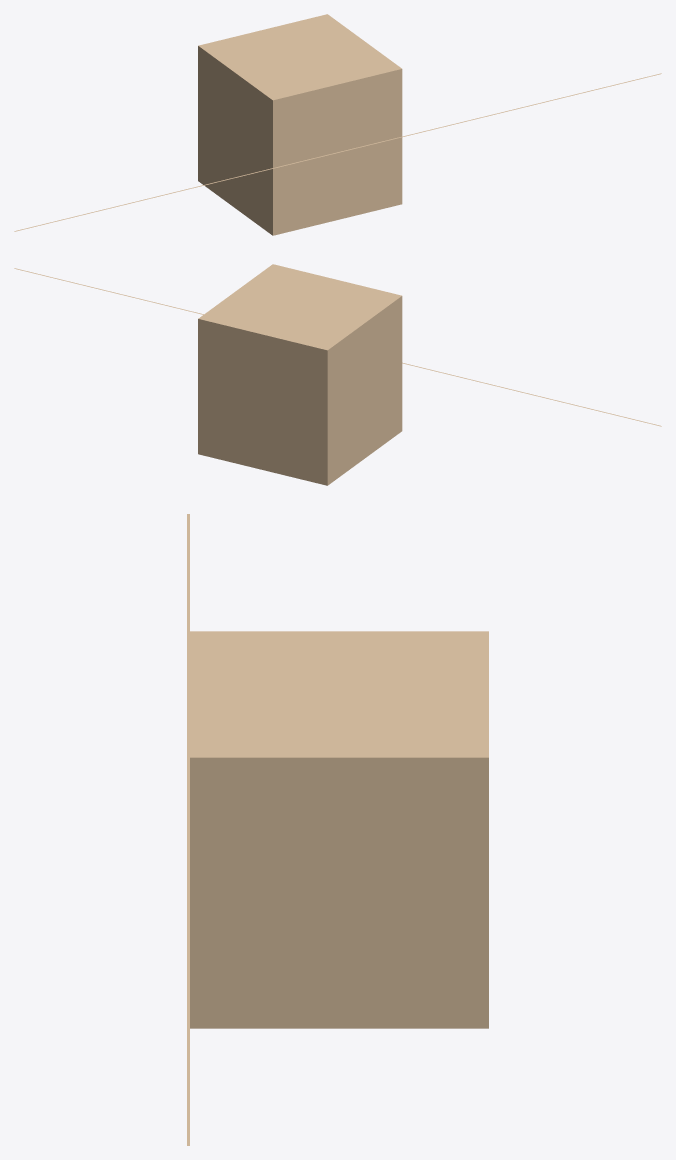
Rendered from generated_world.glb.
3 views of the same model, one above another, from view 1: azimuth 30°, elevation 25°; view 2: azimuth 150°, elevation 25°; view 3: azimuth 270°, elevation 25° (orthographic). The views are drawn at different scales.
Parts seen in each view (by area): view 1: house, farm; view 2: house, farm; view 3: house, farm.
Part boxes in pixels (<box>): house: <box>198,14,402,235</box>; farm: <box>14,73,661,231</box>; house: <box>198,264,402,485</box>; farm: <box>14,268,661,426</box>; house: <box>190,631,488,1028</box>; farm: <box>187,514,189,1145</box>.
Bounding box in the file's own units: 50 × 10 × 10.1.
